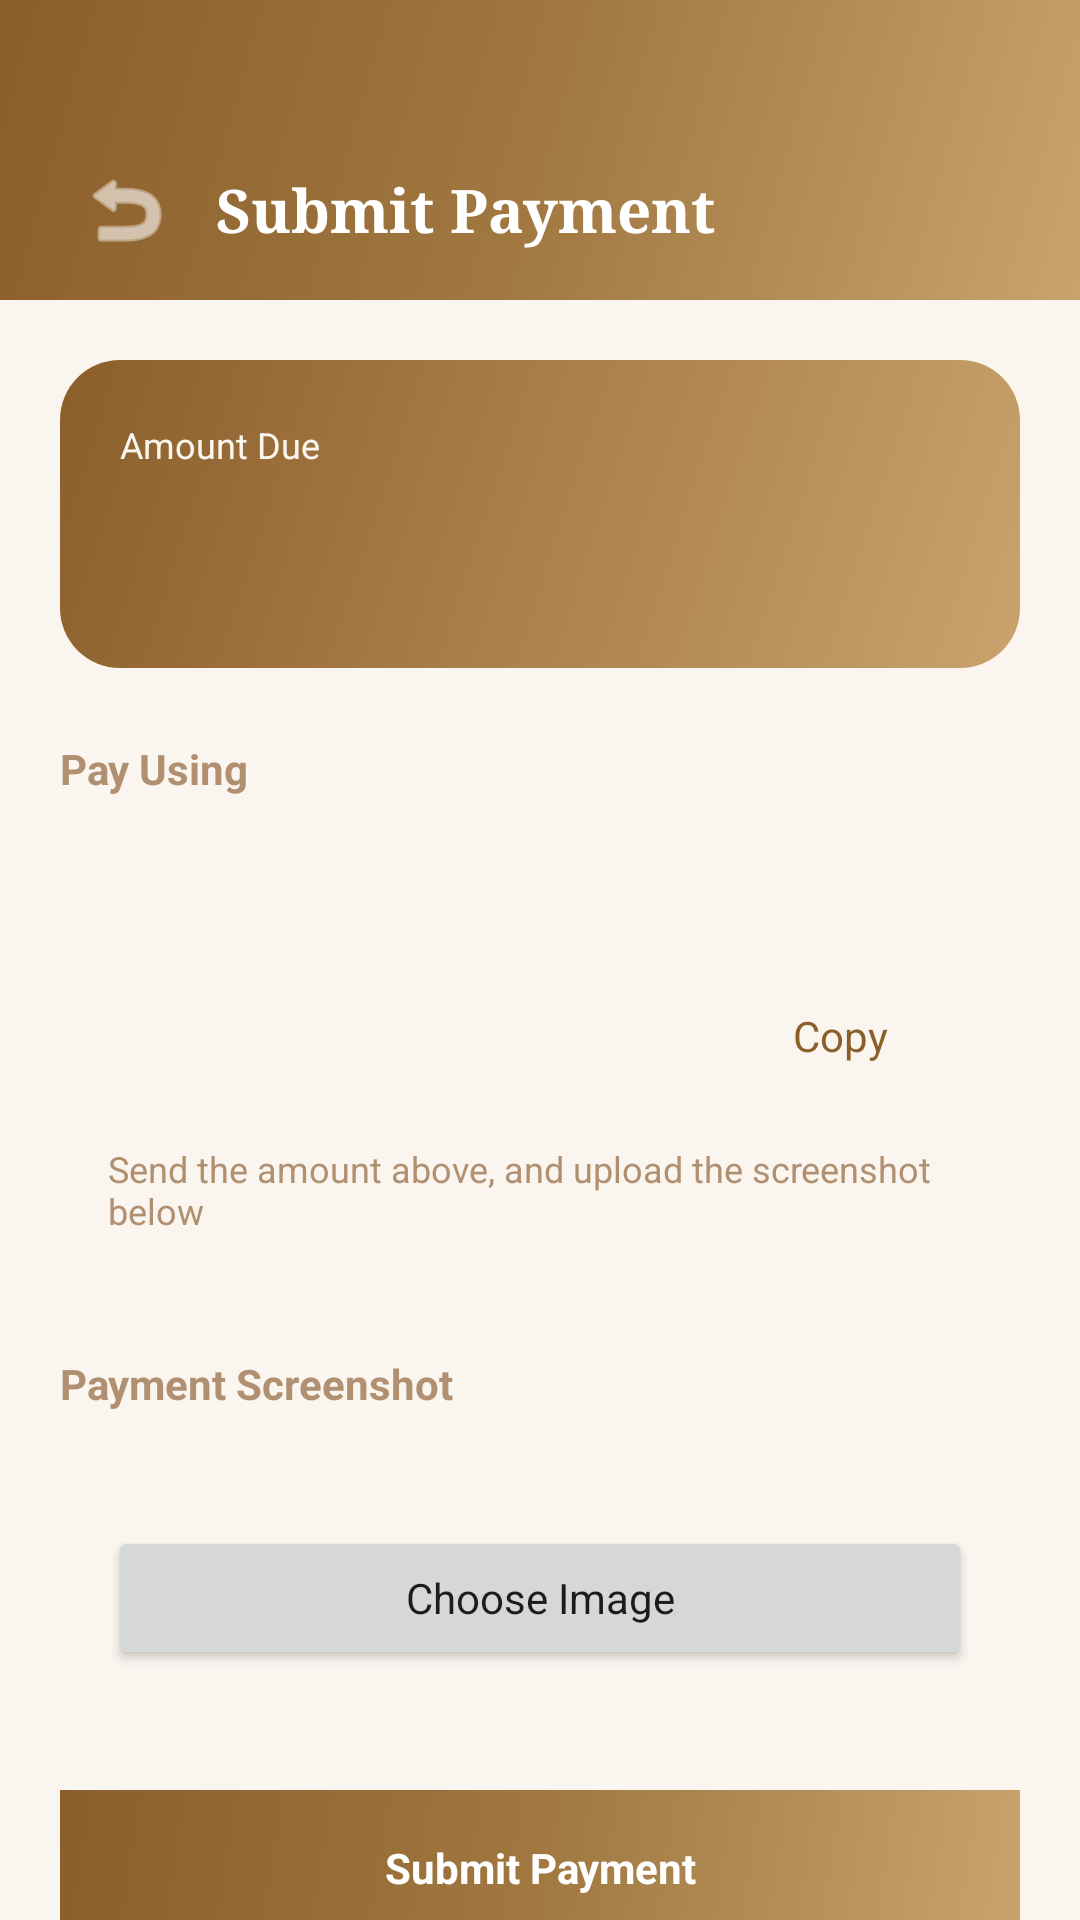

Named icons in this screenshot (1080px x 1920px) and their centers, (x,y):
Back: (127,210)
